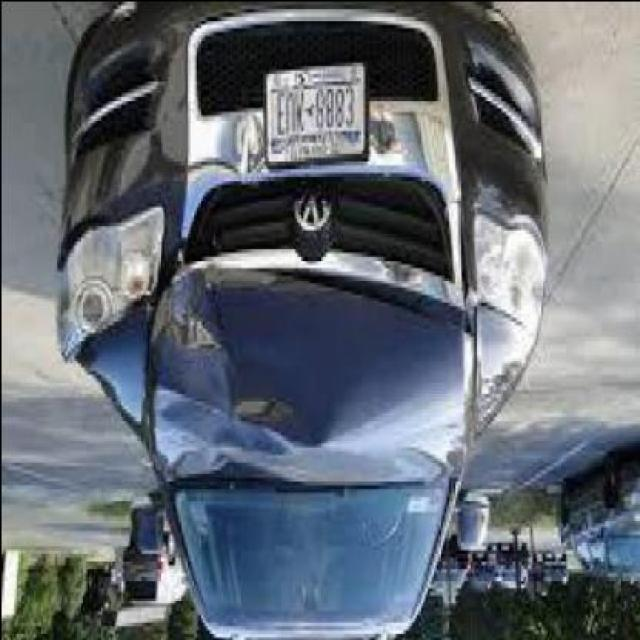damage: (145, 182, 400, 471)
